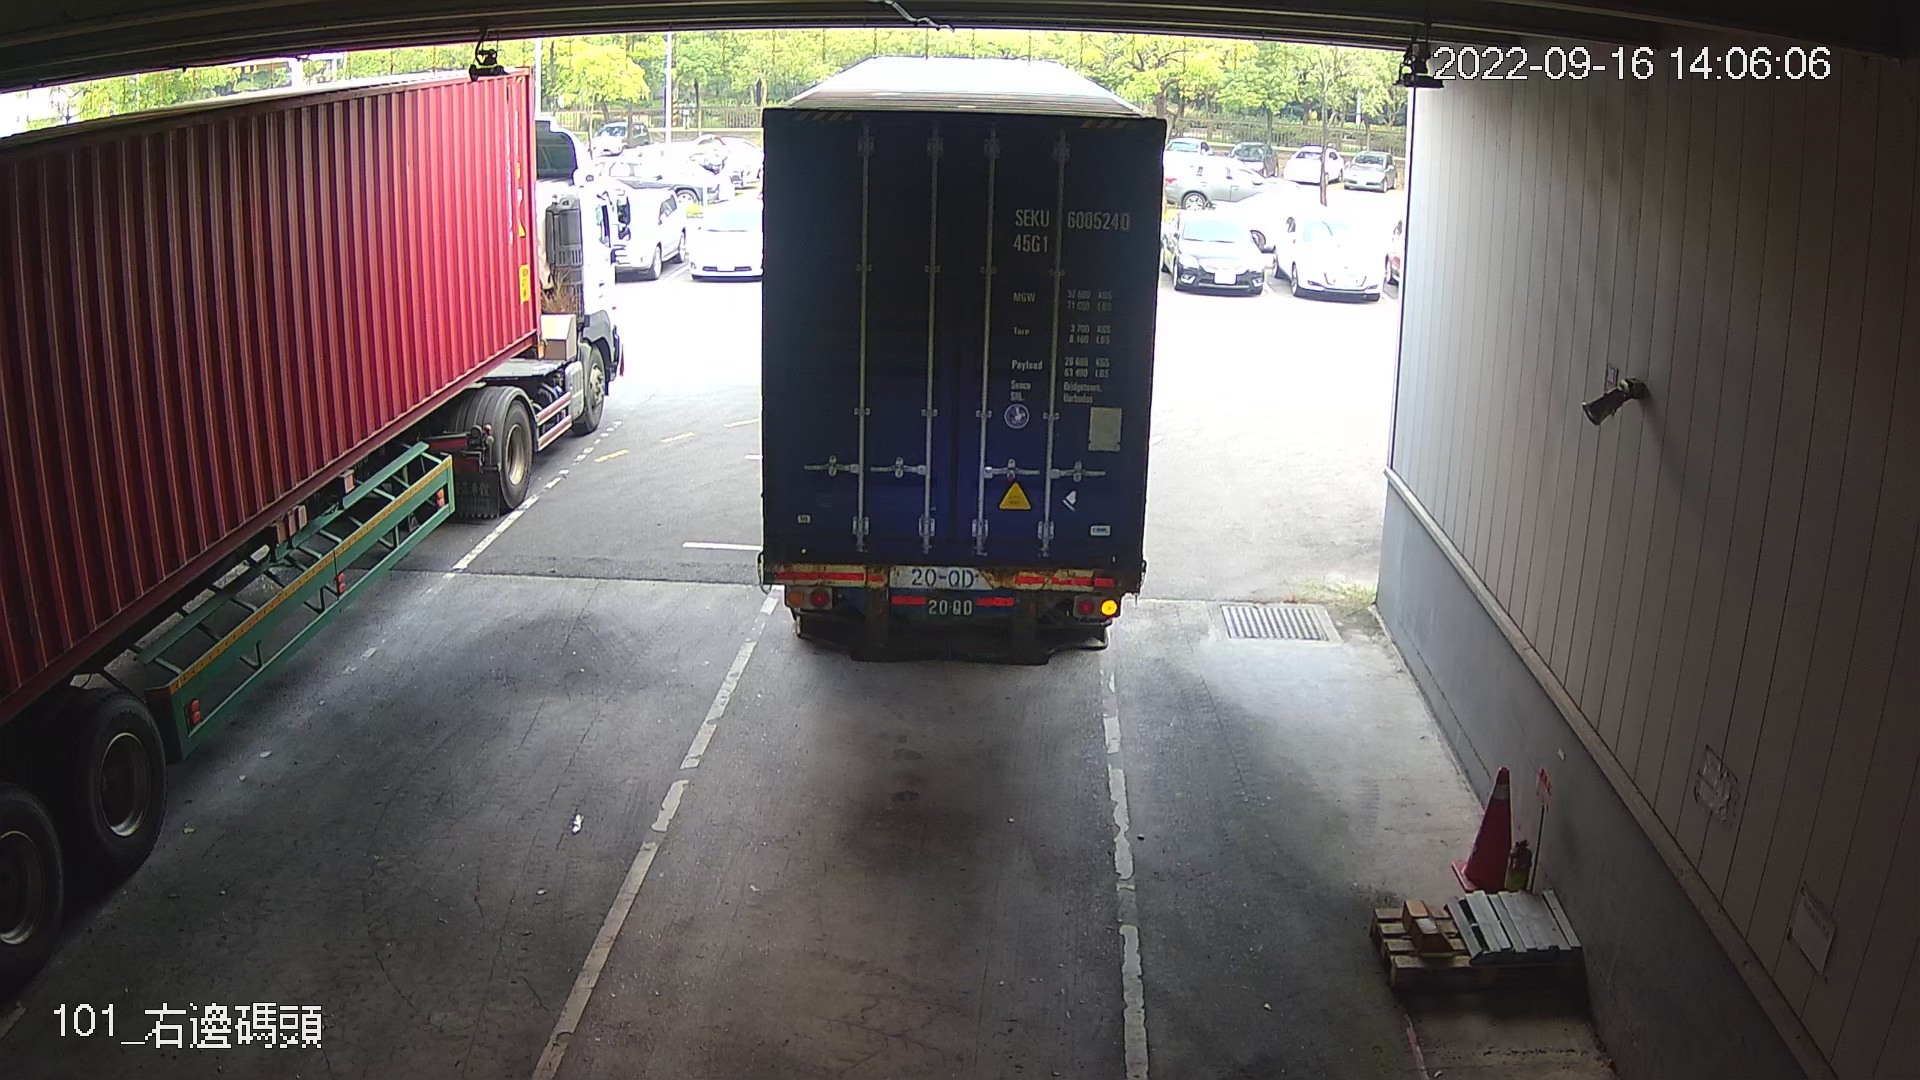container: (1007, 200, 1138, 261)
